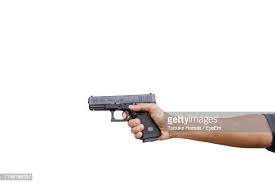gun: (87, 91, 162, 144)
